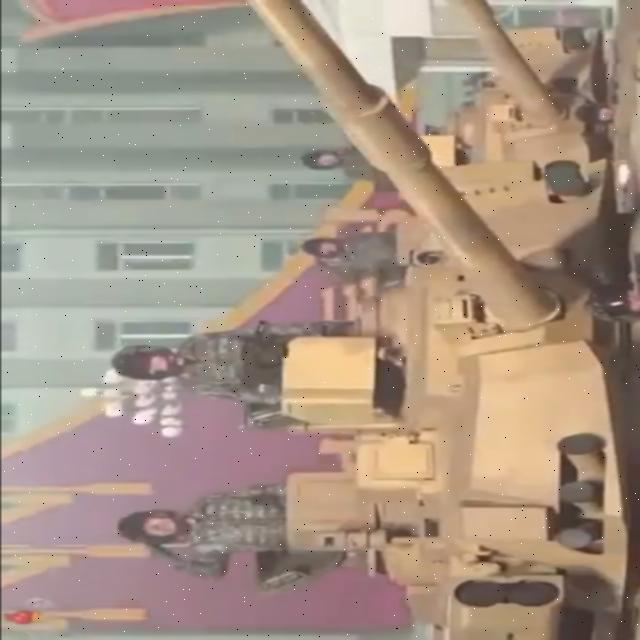north tank: (247, 0, 640, 627), (389, 0, 639, 261)
